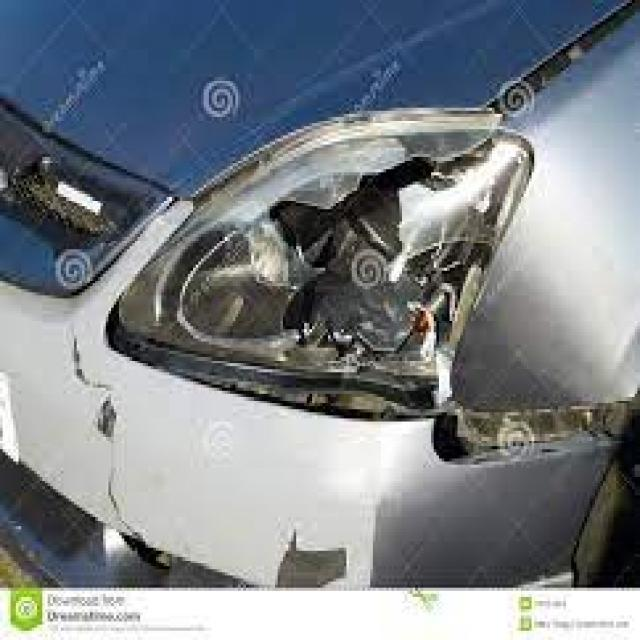damaged-head-light: (114, 111, 546, 427)
